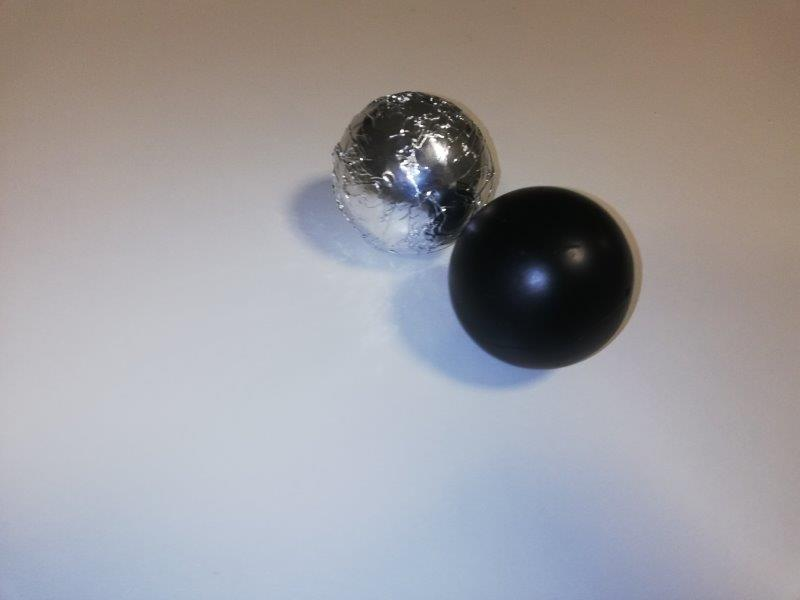bianca: (332, 91, 496, 251)
nera: (444, 184, 635, 371)
